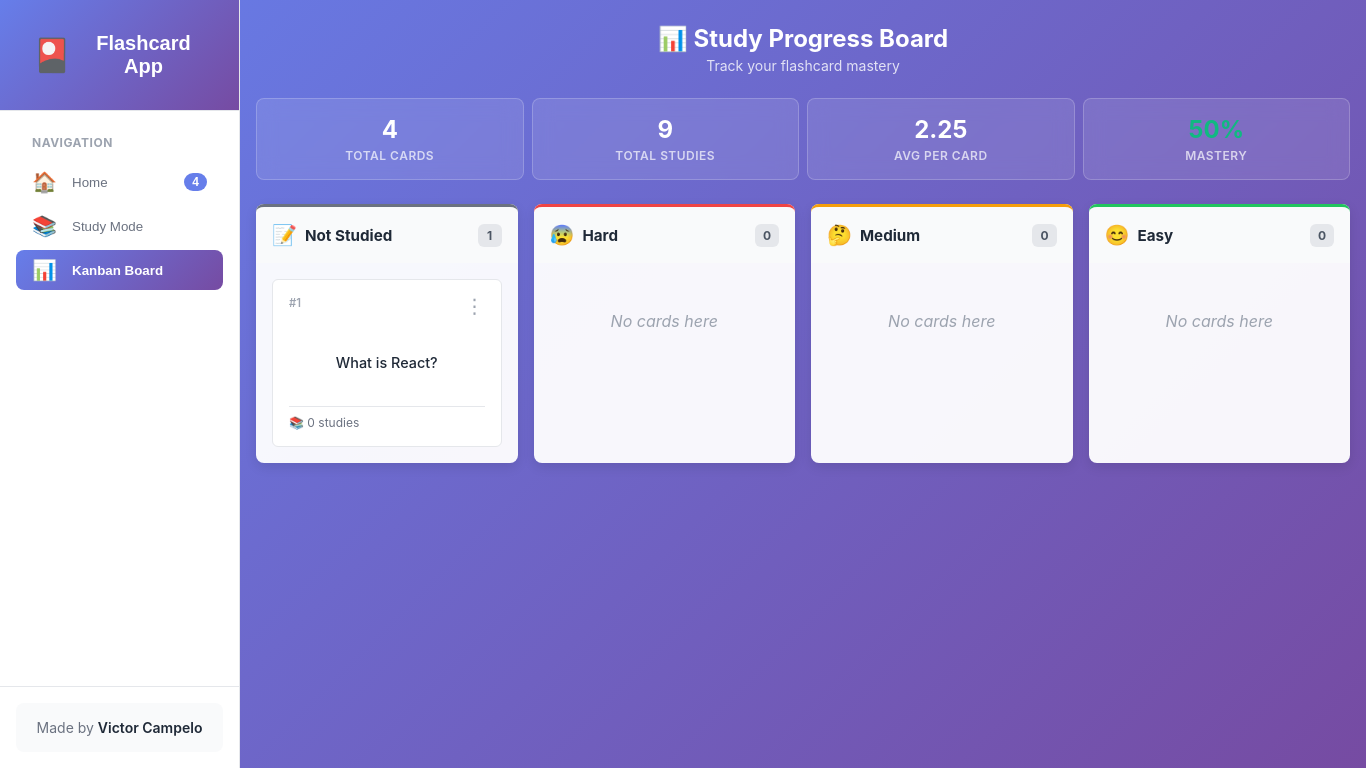
Test: Kanban › Card Menu Interaction › opens menu when menu button is clicked
The image size is (1366, 768).
Expected: the text "What is React?" is shown, left=336, top=352, right=438, bottom=374
Click the button with test id "card-menu-btn" at (474, 306), box left=456, top=292, right=492, bottom=320
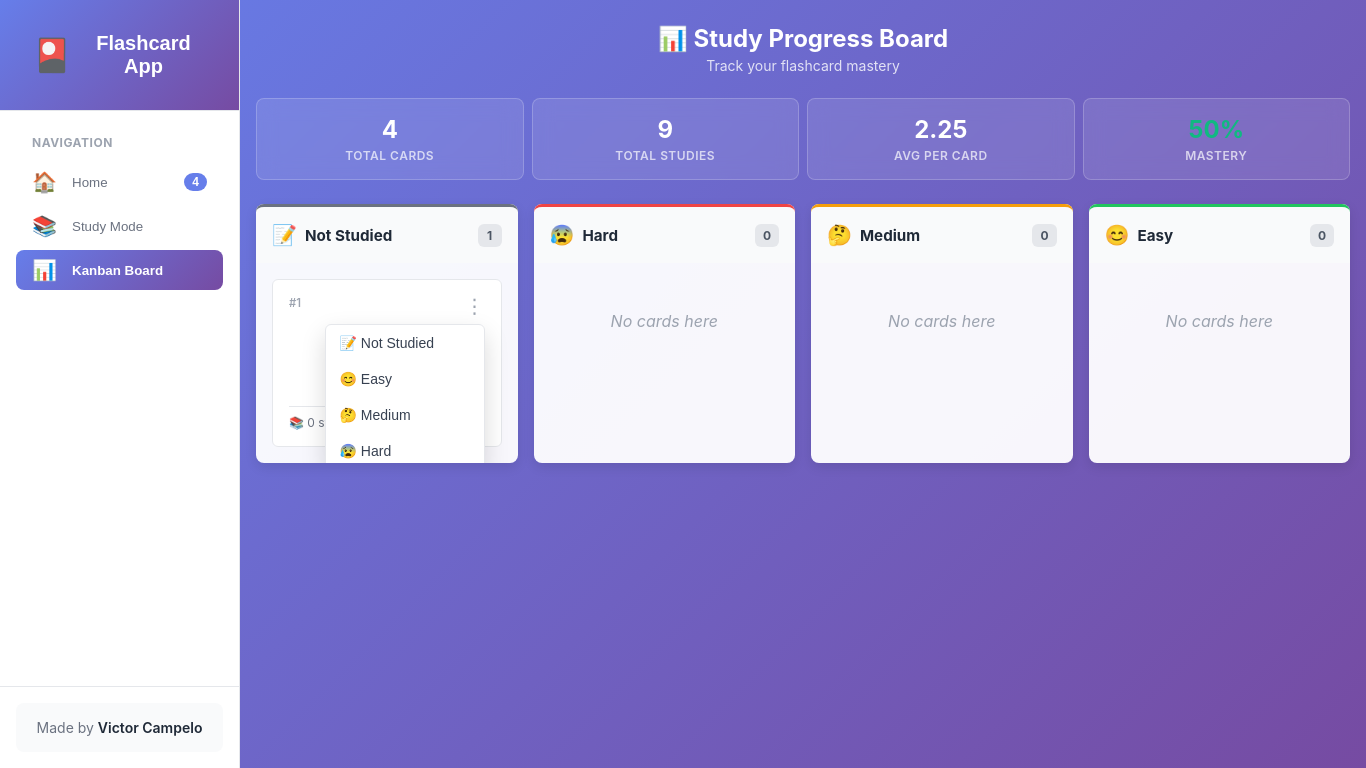
Result: the element with test id "card-menu" is shown at left=324, top=324, right=484, bottom=463
